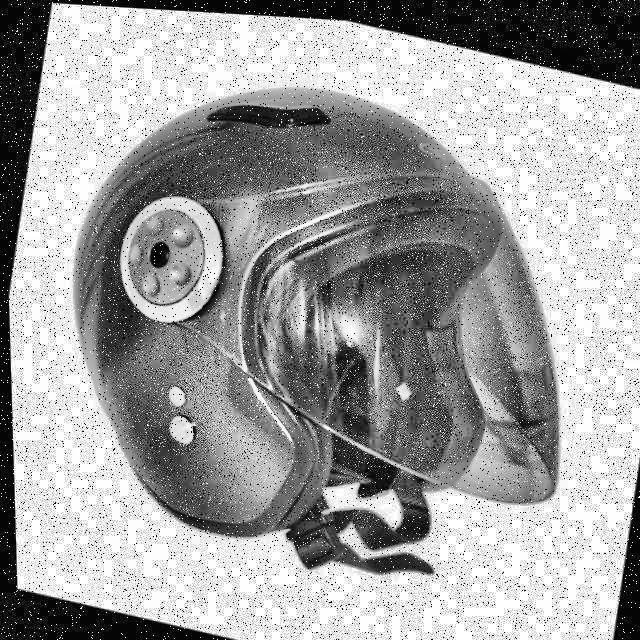Helmet: (8, 16, 634, 634)
